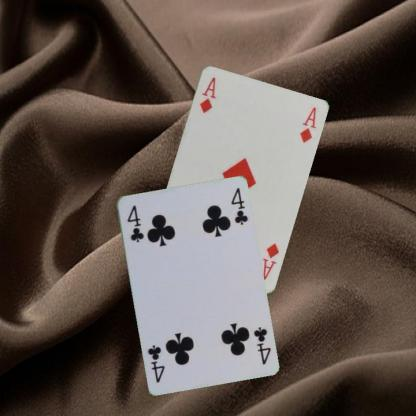4c: (122, 202, 145, 243), (250, 324, 272, 366)
Ad: (196, 74, 218, 114), (260, 240, 280, 281)
